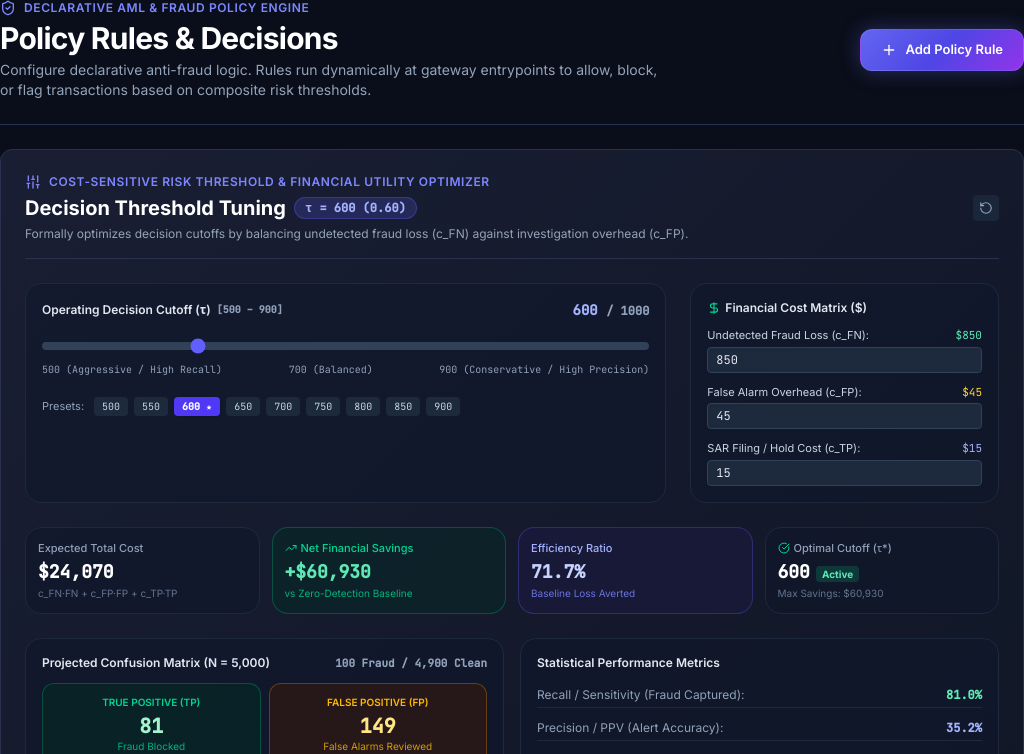
it: PoliciesPage (Rule Engine & AML Policies) Test Suite › opens add rule modal when clicking Add Policy Rule button
Click the button "Add Policy Rule".
click(942, 50)  # box [860, 29, 1023, 71]
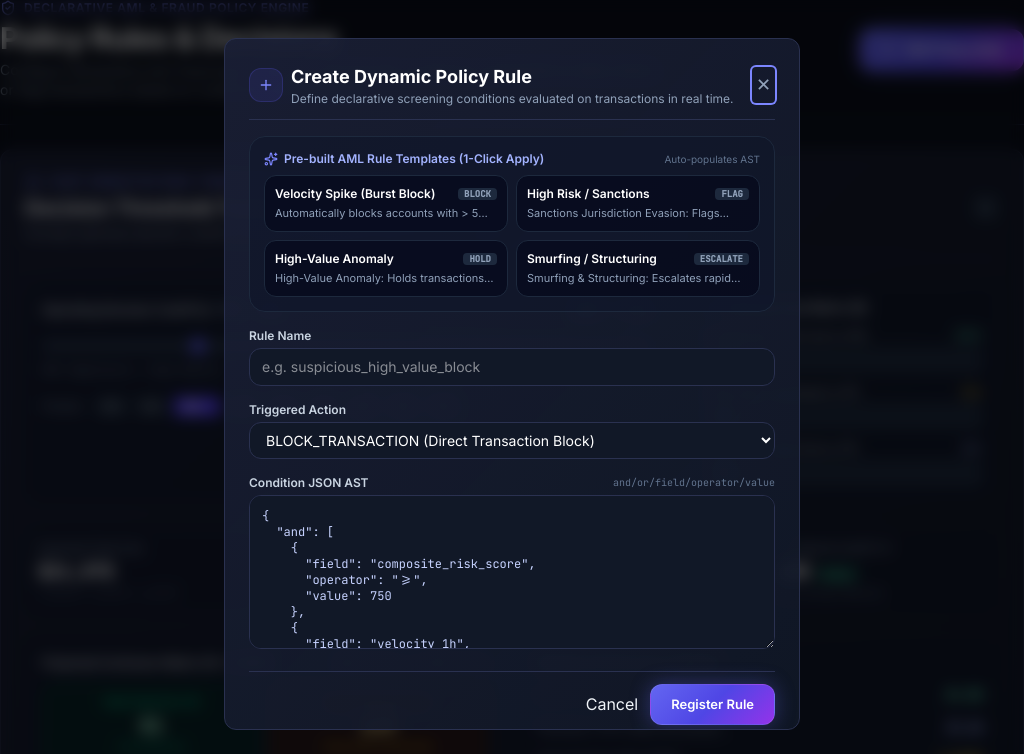
Expected: the heading "Create Dynamic Policy Rule" is shown, [291, 66, 532, 87]
